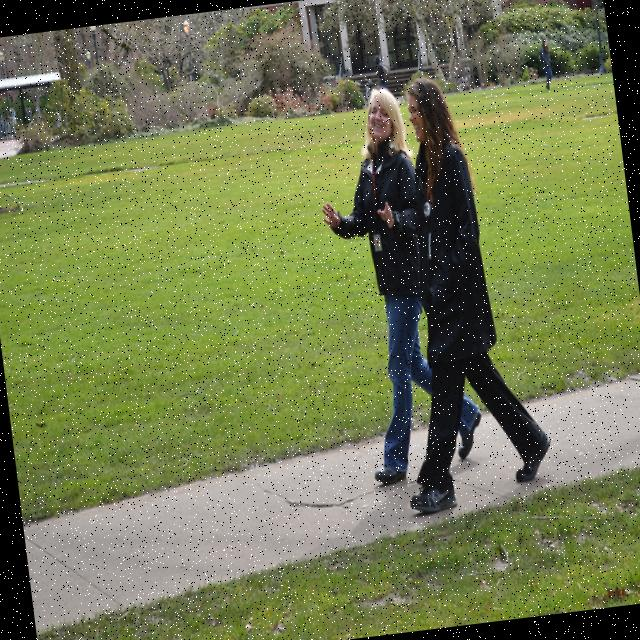Person: (358, 70, 556, 514), (308, 80, 486, 484), (537, 36, 555, 88)
